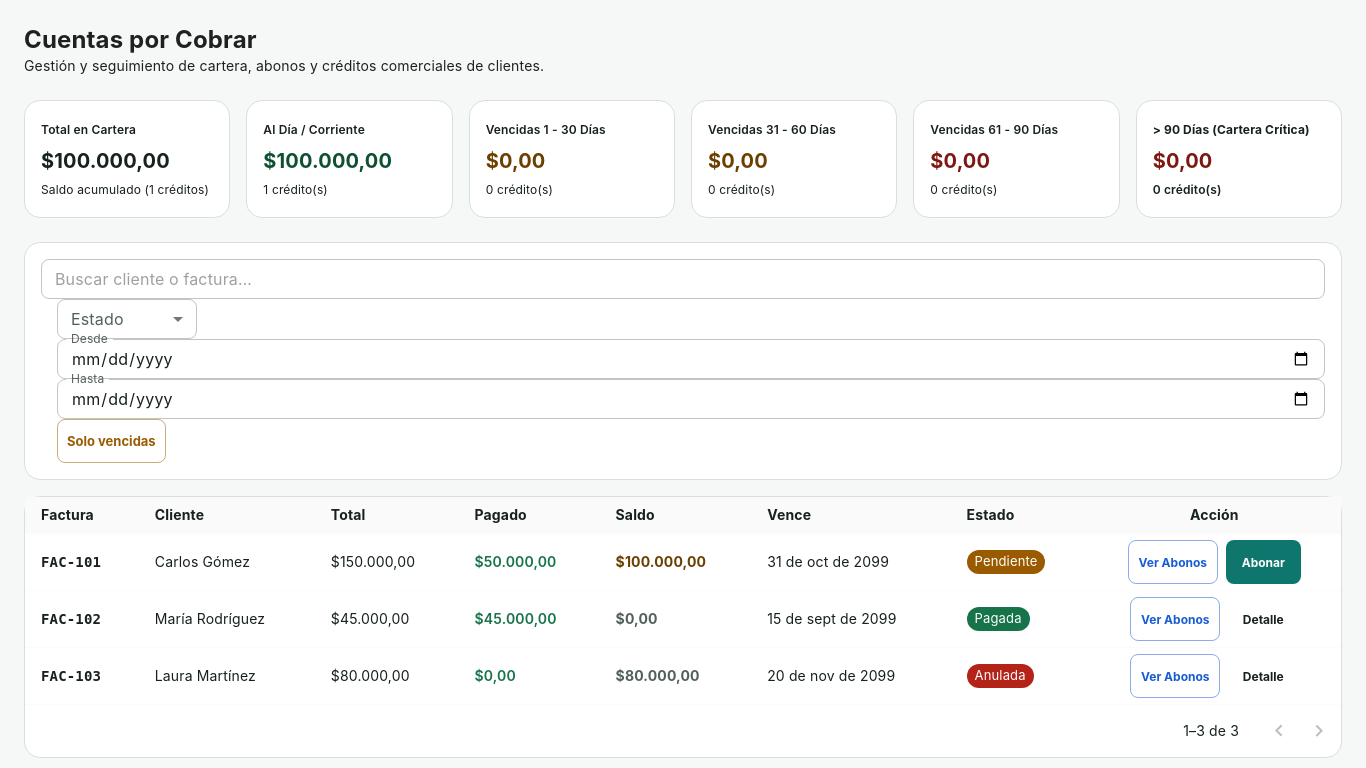
Test: ReceivablesPage: estados de cartera (FARM-AUD-003) › Caso 4: el filtro Pendiente solicita y muestra solo sus registros
Expected: the text "FAC-101" is shown, [41,554,101,570]
Press the mouse on the dropdown named "Estado" at (127, 319), box [57,299,197,339]
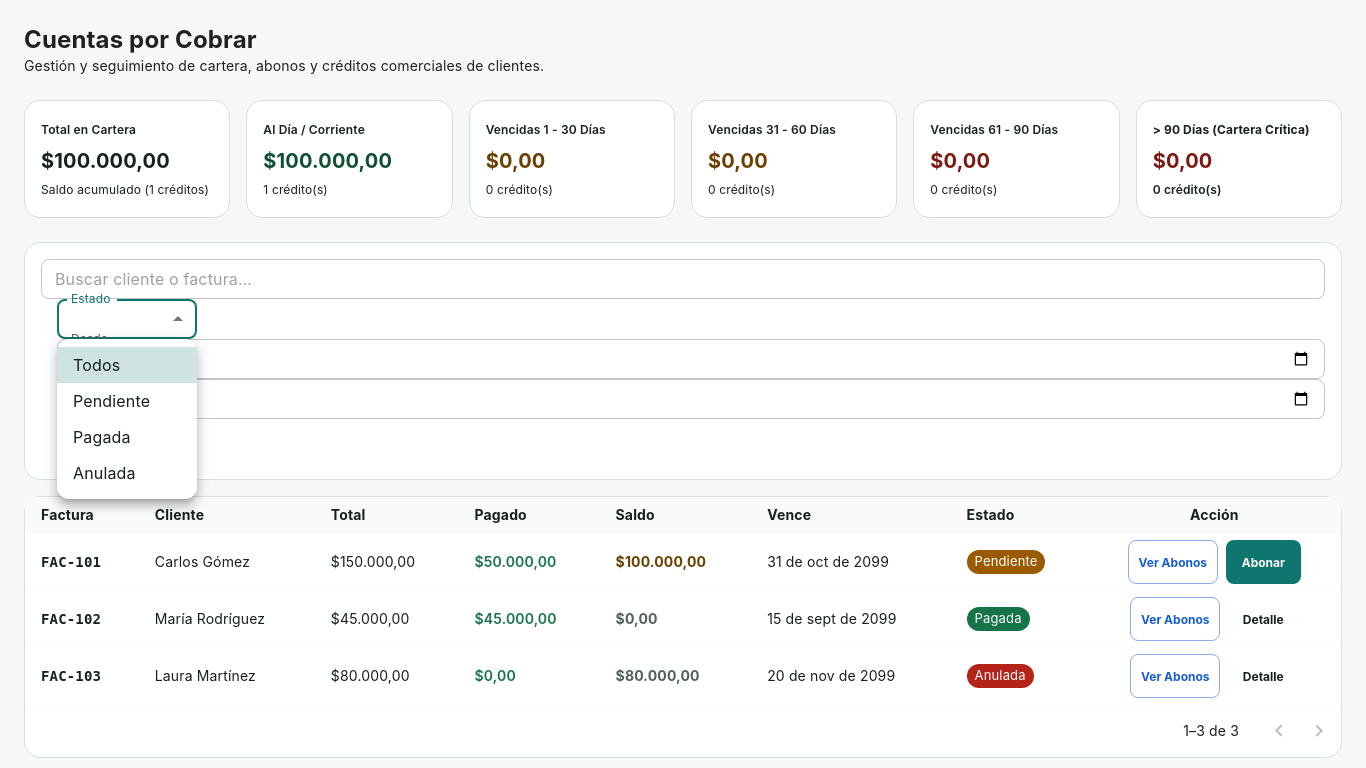
Click the option "Pendiente" at (112, 401), box [73,391,150,411]
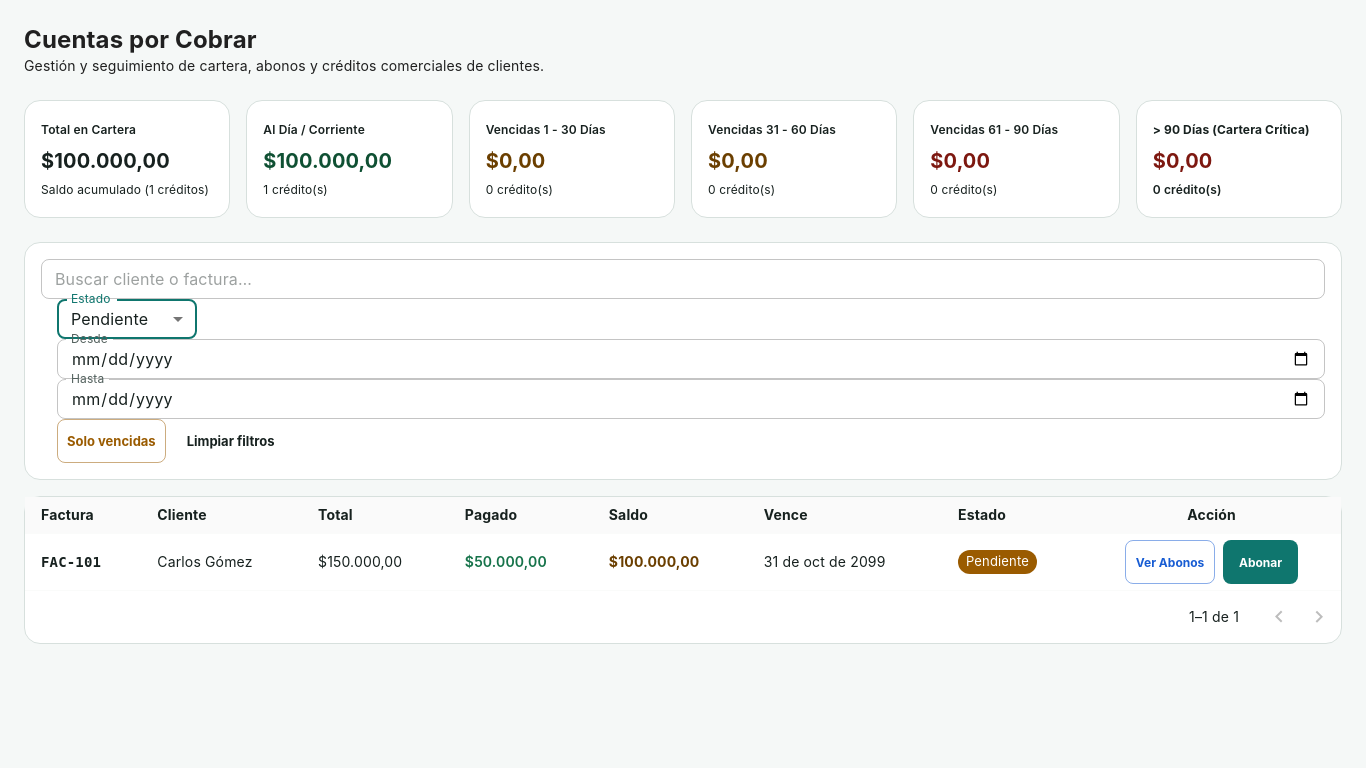
Expected: the text "FAC-101" is shown, [25,534,141,590]
Result: the text "FAC-102" is gone
Result: the text "FAC-103" is gone
